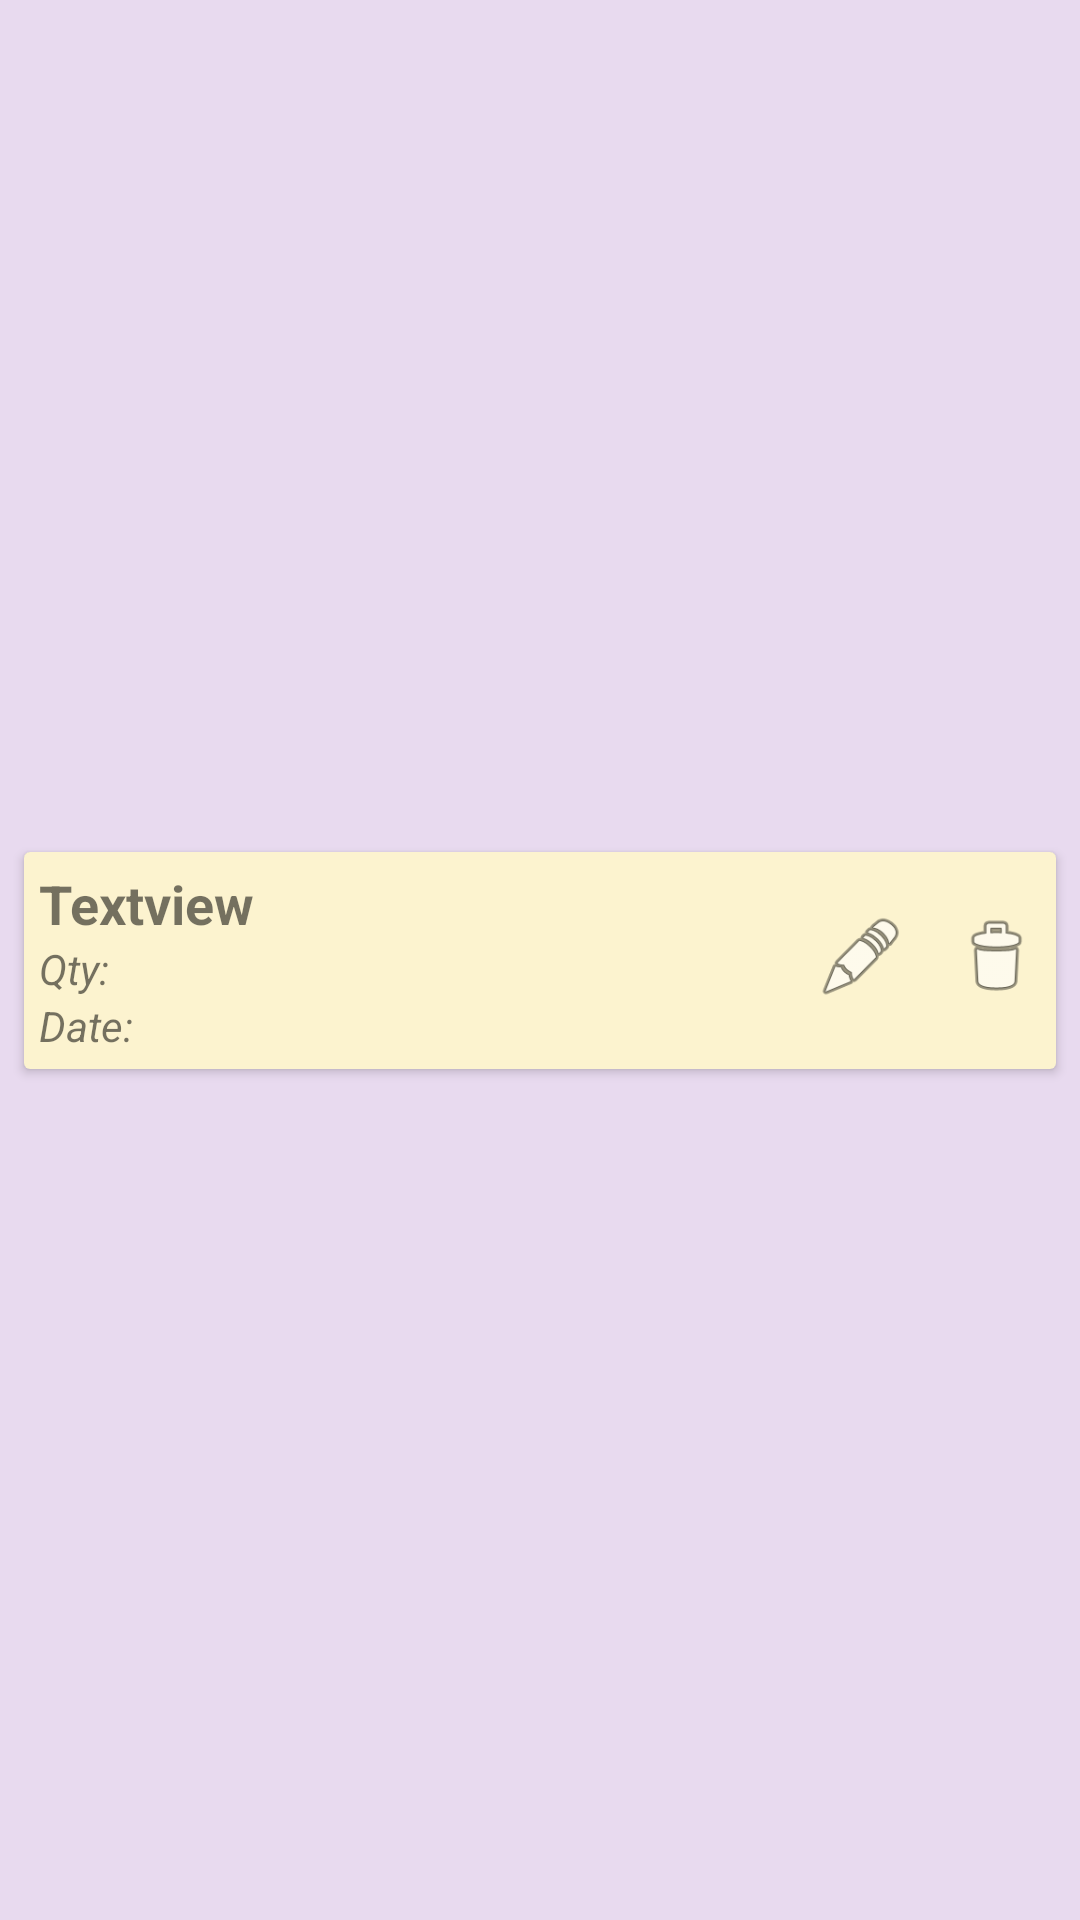

Where icons sit on this 1080 x 1920 app screen, as (x1, y1, x2, y2):
delete: (971, 920, 1022, 991)
edit: (822, 918, 899, 995)
